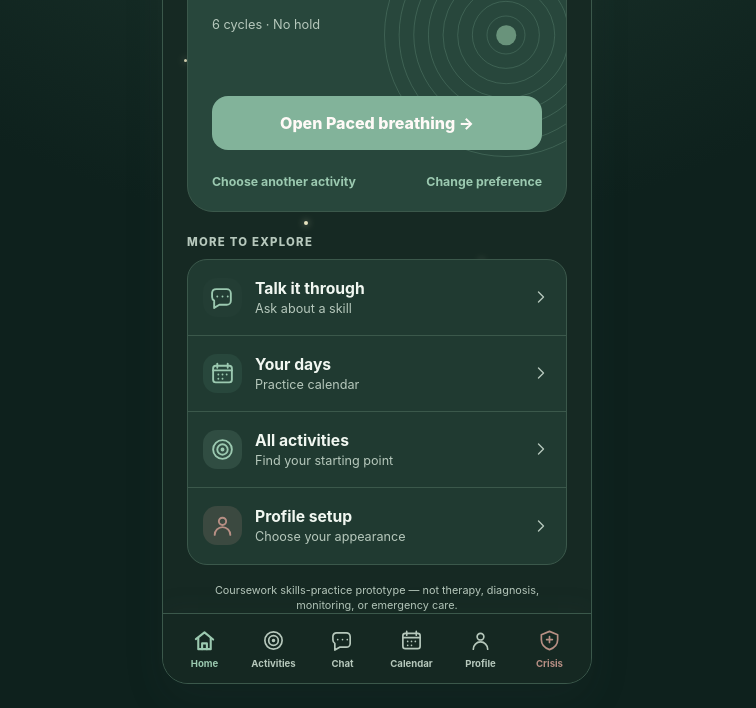
ClearSpace Part 3.2 flows › uses selected reflection responses for one chat request without keeping them in the UI
(page scrolled)
Click the button "Profile setup Choose your appearance". click: click(222, 526)
box: [188,488,566,564]
(page scrolled)
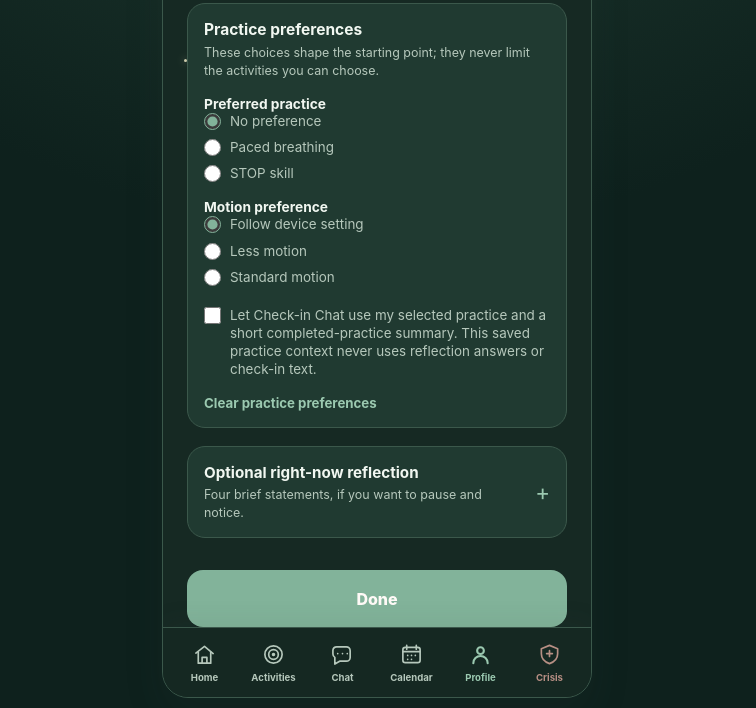
Click the button that starts with "Optional right-now reflection". click: click(377, 492)
box: [188,447,566,537]
(page scrolled)
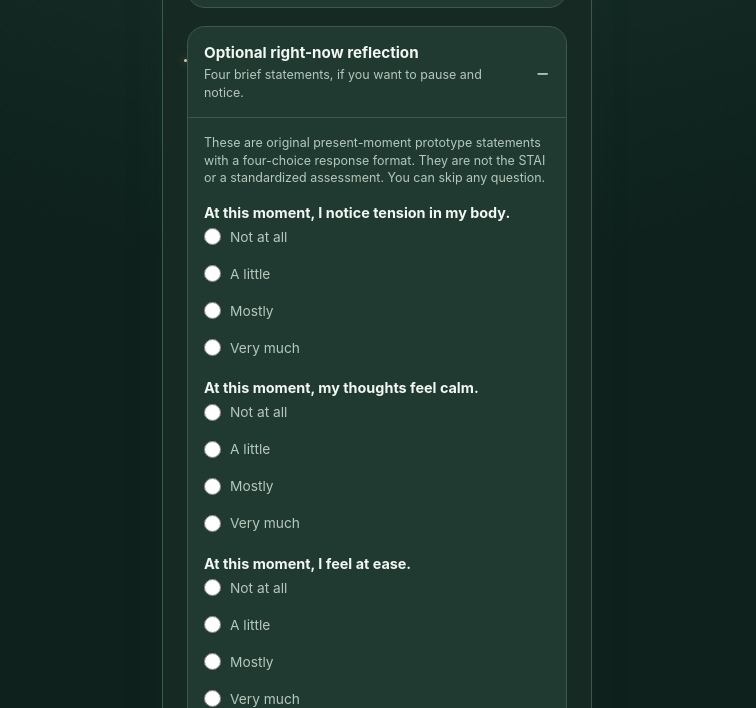
Click the radio button named "reflection-body_tension". click: click(212, 348)
box: [204,339,221,356]
(page scrolled)
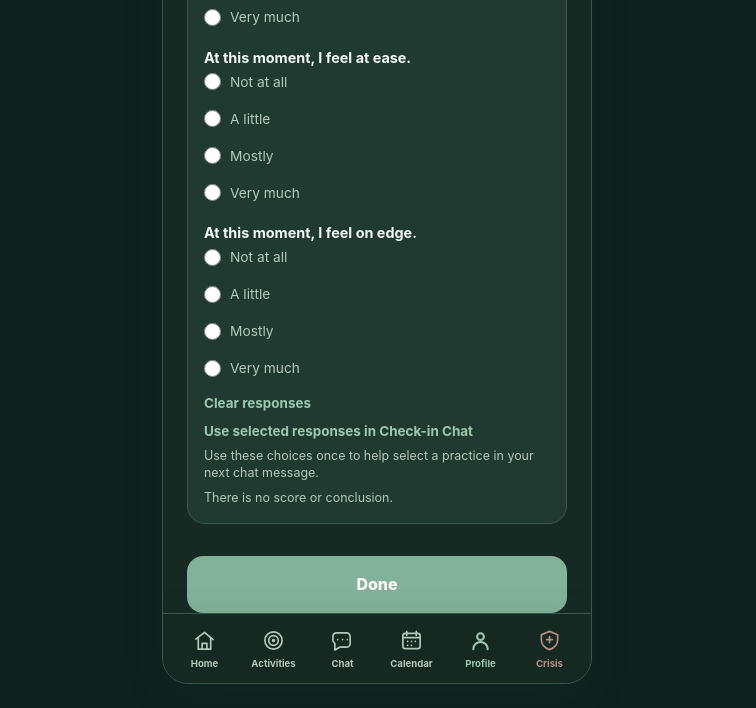
Click the button "Use selected responses in Check-in Chat". click: click(338, 430)
box: [204,422,473,438]
(page scrolled)
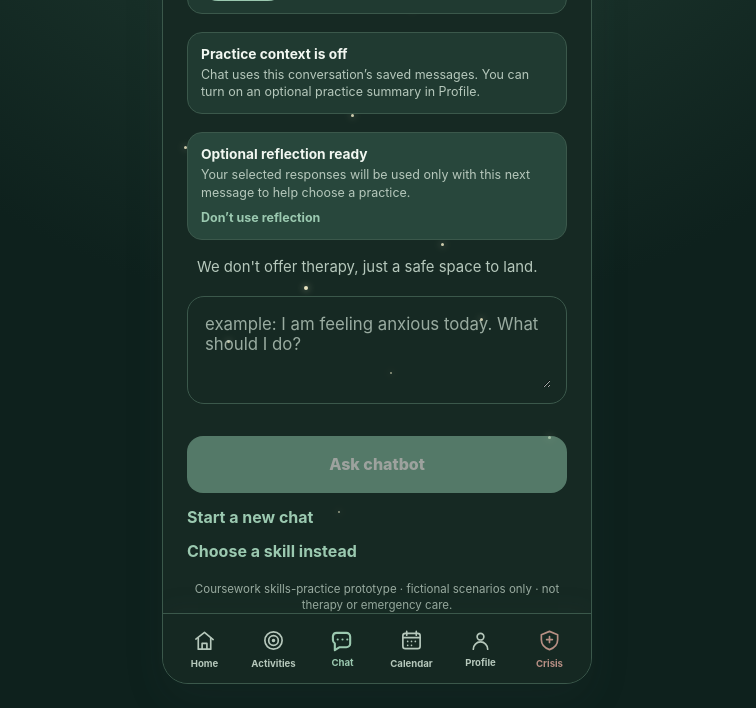
Check: the text "Optional reflection ready" is shown, box [201,146,368,162]
Type "Which practice could I start with?" into the text box named "Message for the chatbot". click: (377, 350)
box: [203,312,551,388]
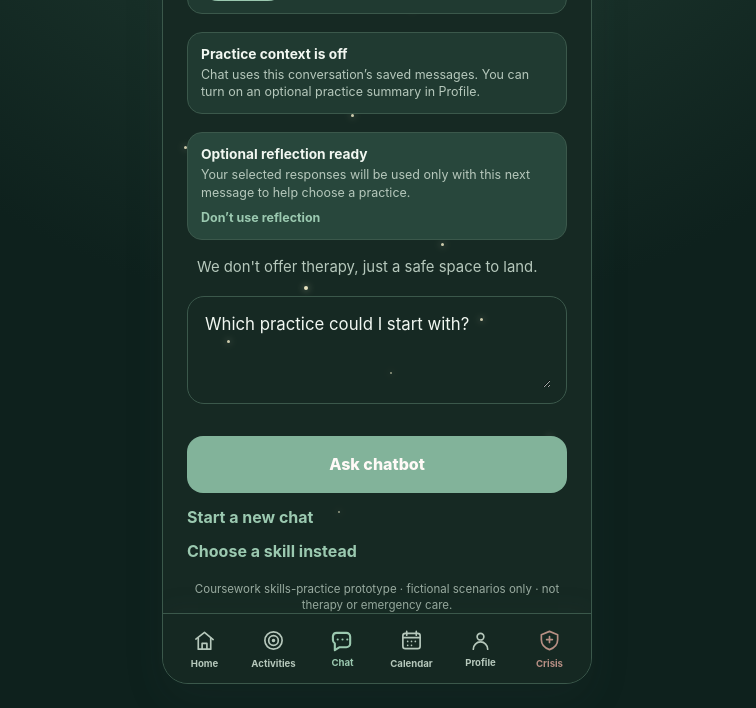
Click the button "Ask chatbot". click: click(377, 464)
box: [187,436,567,493]
(page scrolled)
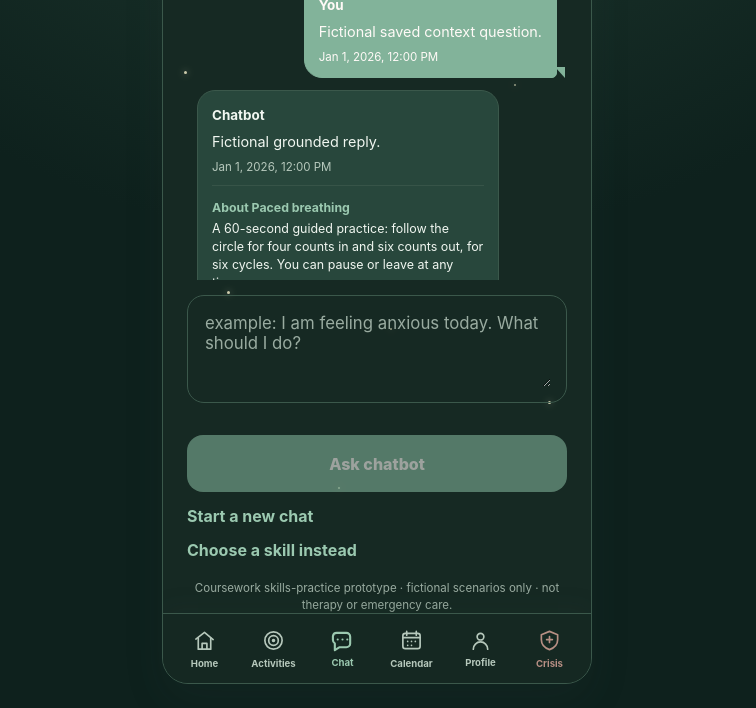
Check: the text "Optional reflection ready" is gone
